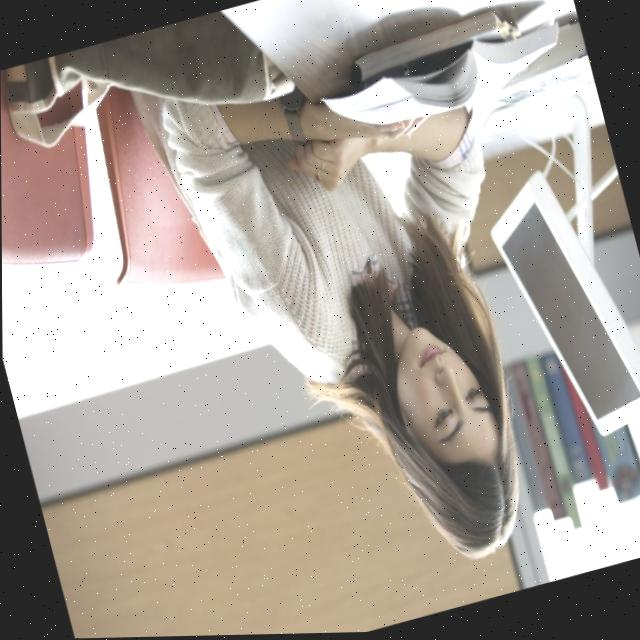studying-person: (112, 0, 566, 607)
